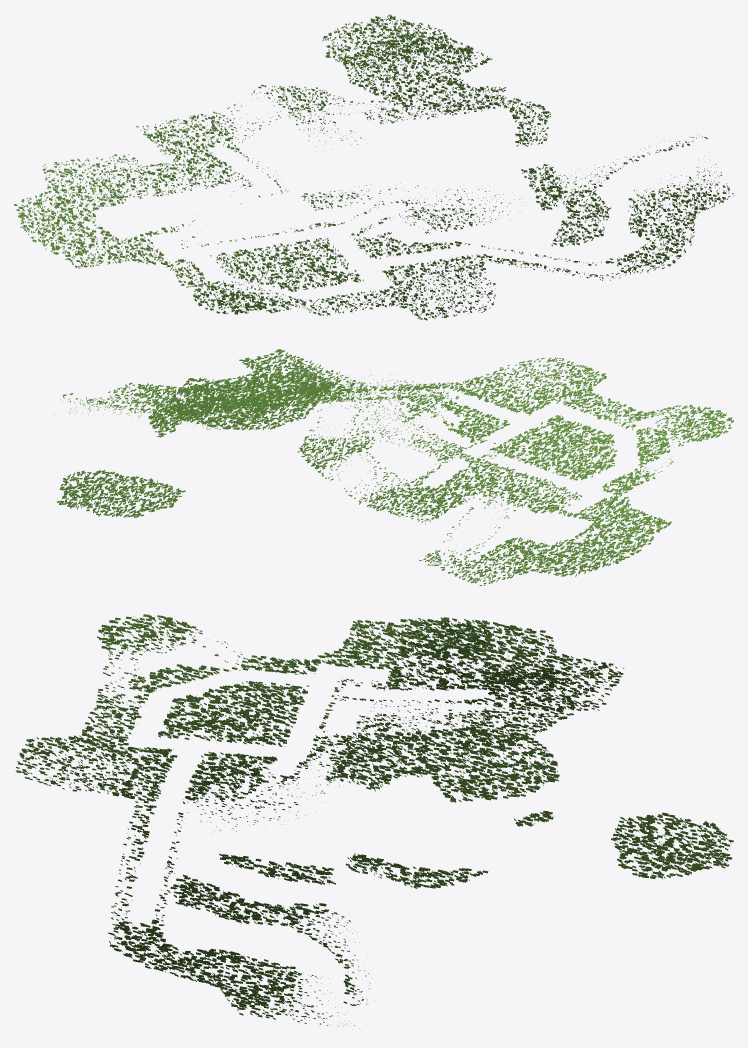
The model's file is BrindleIsleTerrainGrass.fbx.
The picture shows the model from 3 angles, top to bottom: view 1: azimuth 30°, elevation 25°; view 2: azimuth 150°, elevation 25°; view 3: azimuth 270°, elevation 25°; orthographic projection. The views are drawn at different scales.
Parts seen in each view (by area): view 1: BrindleIsleTerrainGrass; view 2: BrindleIsleTerrainGrass; view 3: BrindleIsleTerrainGrass.
Boxes of the visible parts, x1,y1,x2,y2 form: BrindleIsleTerrainGrass: (14,14,733,320); BrindleIsleTerrainGrass: (57,349,733,585); BrindleIsleTerrainGrass: (15,614,733,1028).
Size of the model in its own units: 6566 by 1079 by 5427.
Materials: 1 (1 with a texture image).
